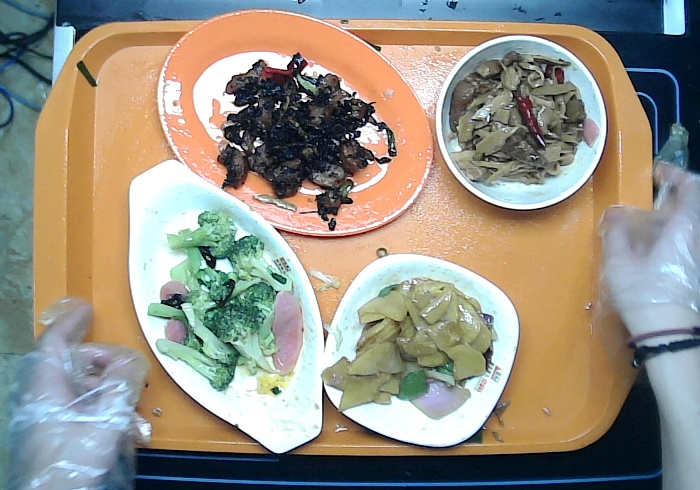NLDX-Bai_Se_Xiao_Fang_Die: (320, 251, 523, 448)
NLDX-Fan_Wan: (434, 32, 609, 212)
NLDX-Ju_Se_Pan: (154, 5, 436, 238)
NLDX-Yu_Pan: (125, 157, 327, 455)
